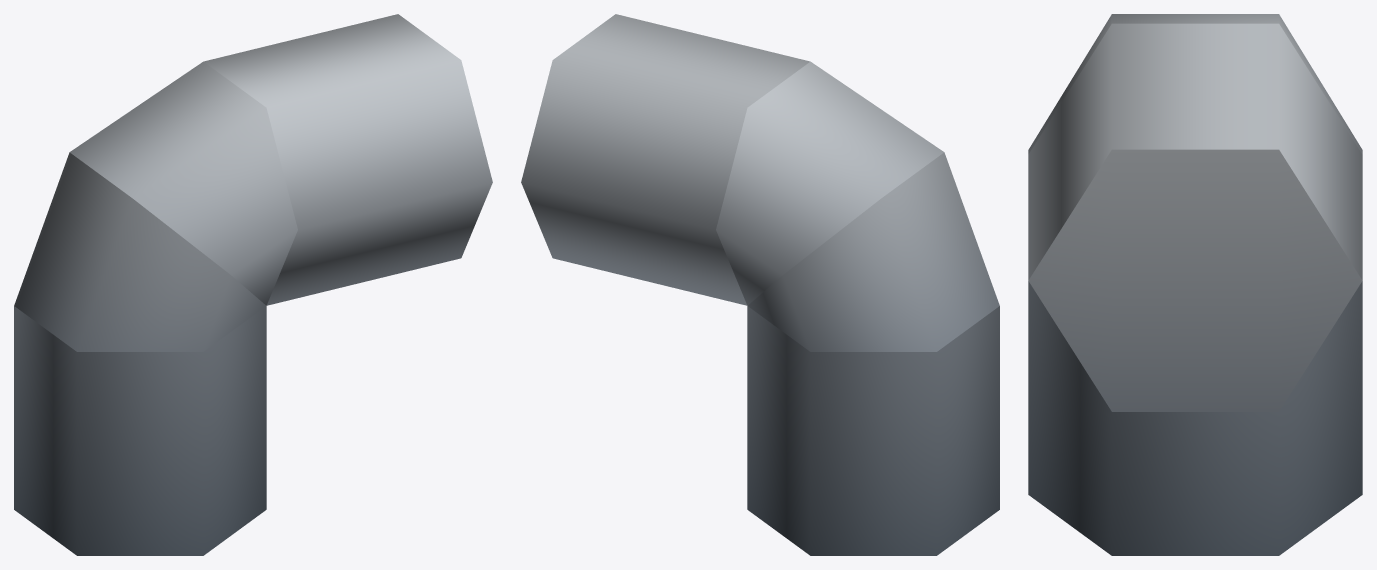
Rendered from pipe-bend.glb.
The picture shows the model from 3 angles, left to right: view 1: azimuth 30°, elevation 25°; view 2: azimuth 150°, elevation 25°; view 3: azimuth 270°, elevation 25°; orthographic projection. The views are drawn at different scales.
Visible parts, largest first — view 1: pipe-bend; view 2: pipe-bend; view 3: pipe-bend.
Boxes of the visible parts, box(x1,y1,x2,y2) form: pipe-bend: box(14, 14, 492, 555); pipe-bend: box(521, 14, 999, 555); pipe-bend: box(1028, 14, 1362, 555).
Bounding box in the file's own units: 0.5 × 0.5 × 0.2845.
